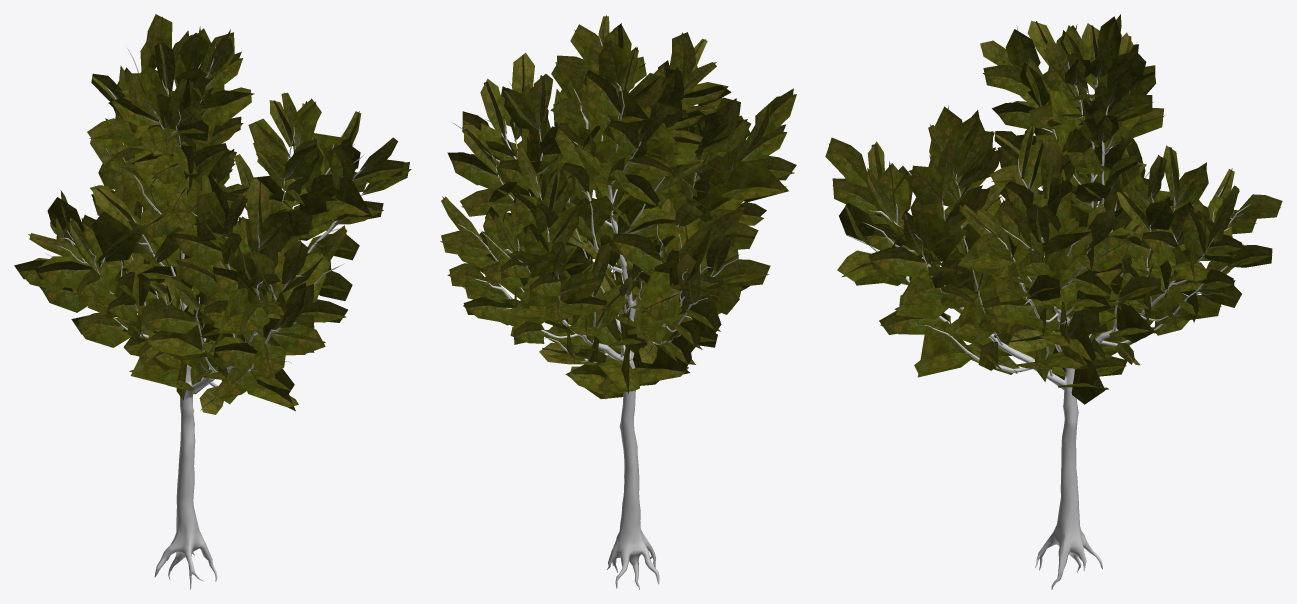
Rendered from Tree.fbx.
The picture shows the model from 3 angles, left to right: view 1: azimuth 30°, elevation 25°; view 2: azimuth 150°, elevation 25°; view 3: azimuth 270°, elevation 25°; orthographic projection. The views are drawn at different scales.
Parts seen in each view (by area): view 1: LODGroup_1_MainMesh_1_SubMesh_1, LODGroup_1_MainMesh_1_SubMesh_3; view 2: LODGroup_1_MainMesh_1_SubMesh_1, LODGroup_1_MainMesh_1_SubMesh_3; view 3: LODGroup_1_MainMesh_1_SubMesh_1, LODGroup_1_MainMesh_1_SubMesh_3.
Boxes of the visible parts, x1,y1,x2,y2 form: LODGroup_1_MainMesh_1_SubMesh_1: [14, 14, 411, 414]; LODGroup_1_MainMesh_1_SubMesh_3: [45, 42, 365, 589]; LODGroup_1_MainMesh_1_SubMesh_1: [440, 15, 796, 399]; LODGroup_1_MainMesh_1_SubMesh_3: [452, 35, 739, 589]; LODGroup_1_MainMesh_1_SubMesh_1: [825, 14, 1282, 404]; LODGroup_1_MainMesh_1_SubMesh_3: [846, 42, 1250, 589].
Size of the model in its own units: 688 by 1112 by 819.
